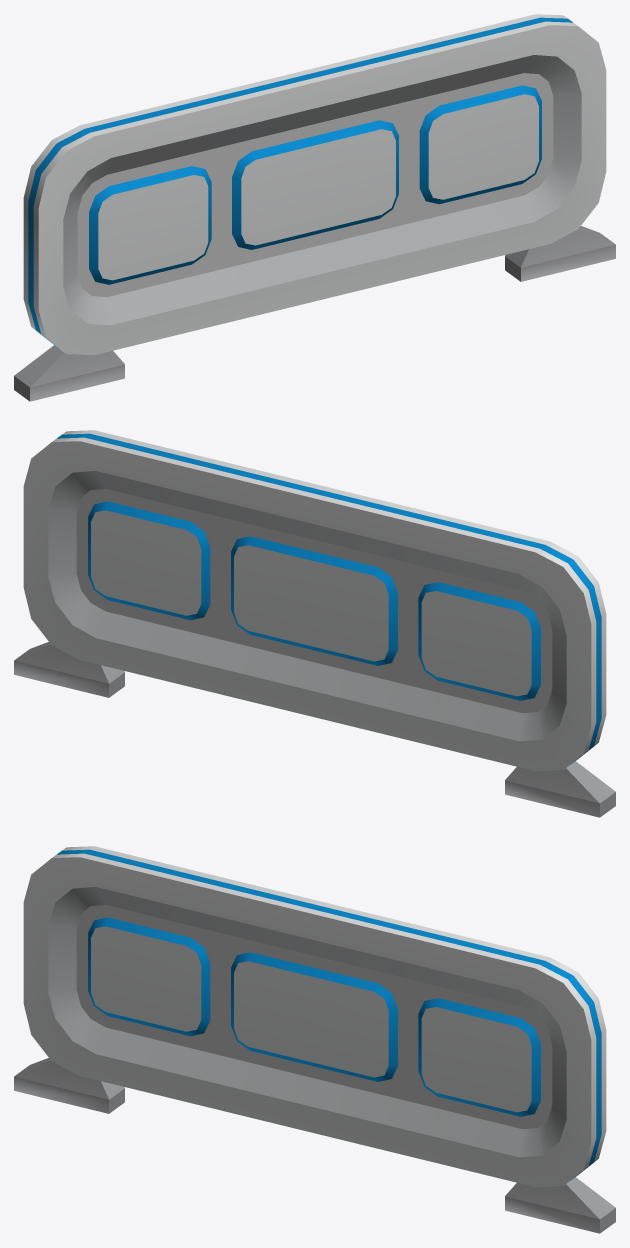
The model's file is Fence_type_B_009.fbx.
3 views of the same model, one above another, from view 1: azimuth 30°, elevation 25°; view 2: azimuth 150°, elevation 25°; view 3: azimuth 330°, elevation 25° (orthographic).
Visible parts, largest first — view 1: Fence_type_B_009; view 2: Fence_type_B_009; view 3: Fence_type_B_009.
Boxes of the visible parts, x1,y1,x2,y2 form: Fence_type_B_009: (14,14,615,401); Fence_type_B_009: (14,430,615,817); Fence_type_B_009: (14,846,615,1233).
Size of the model in its own units: 348 by 16.53 by 141.
